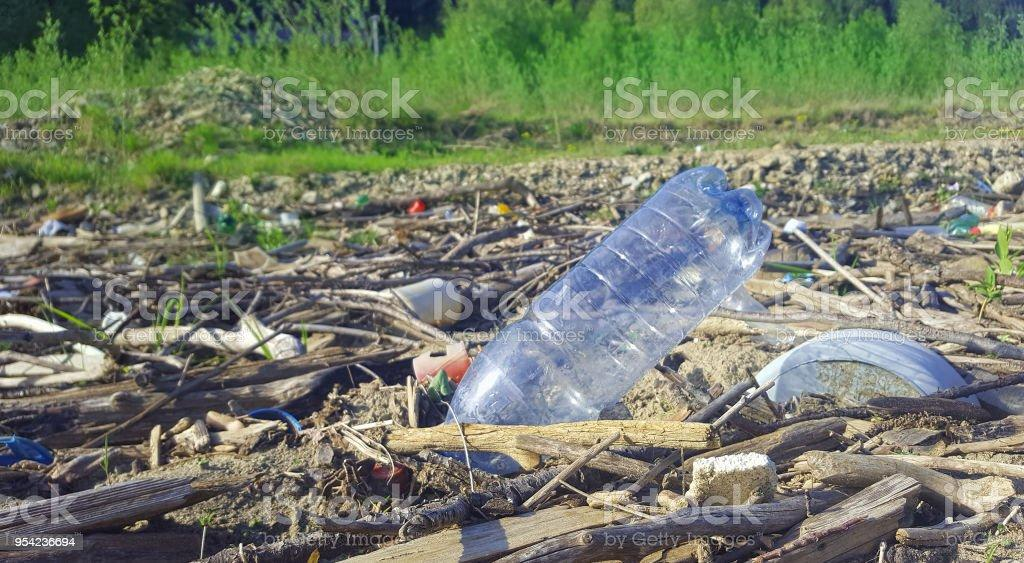Plastic: (444, 152, 773, 439)
